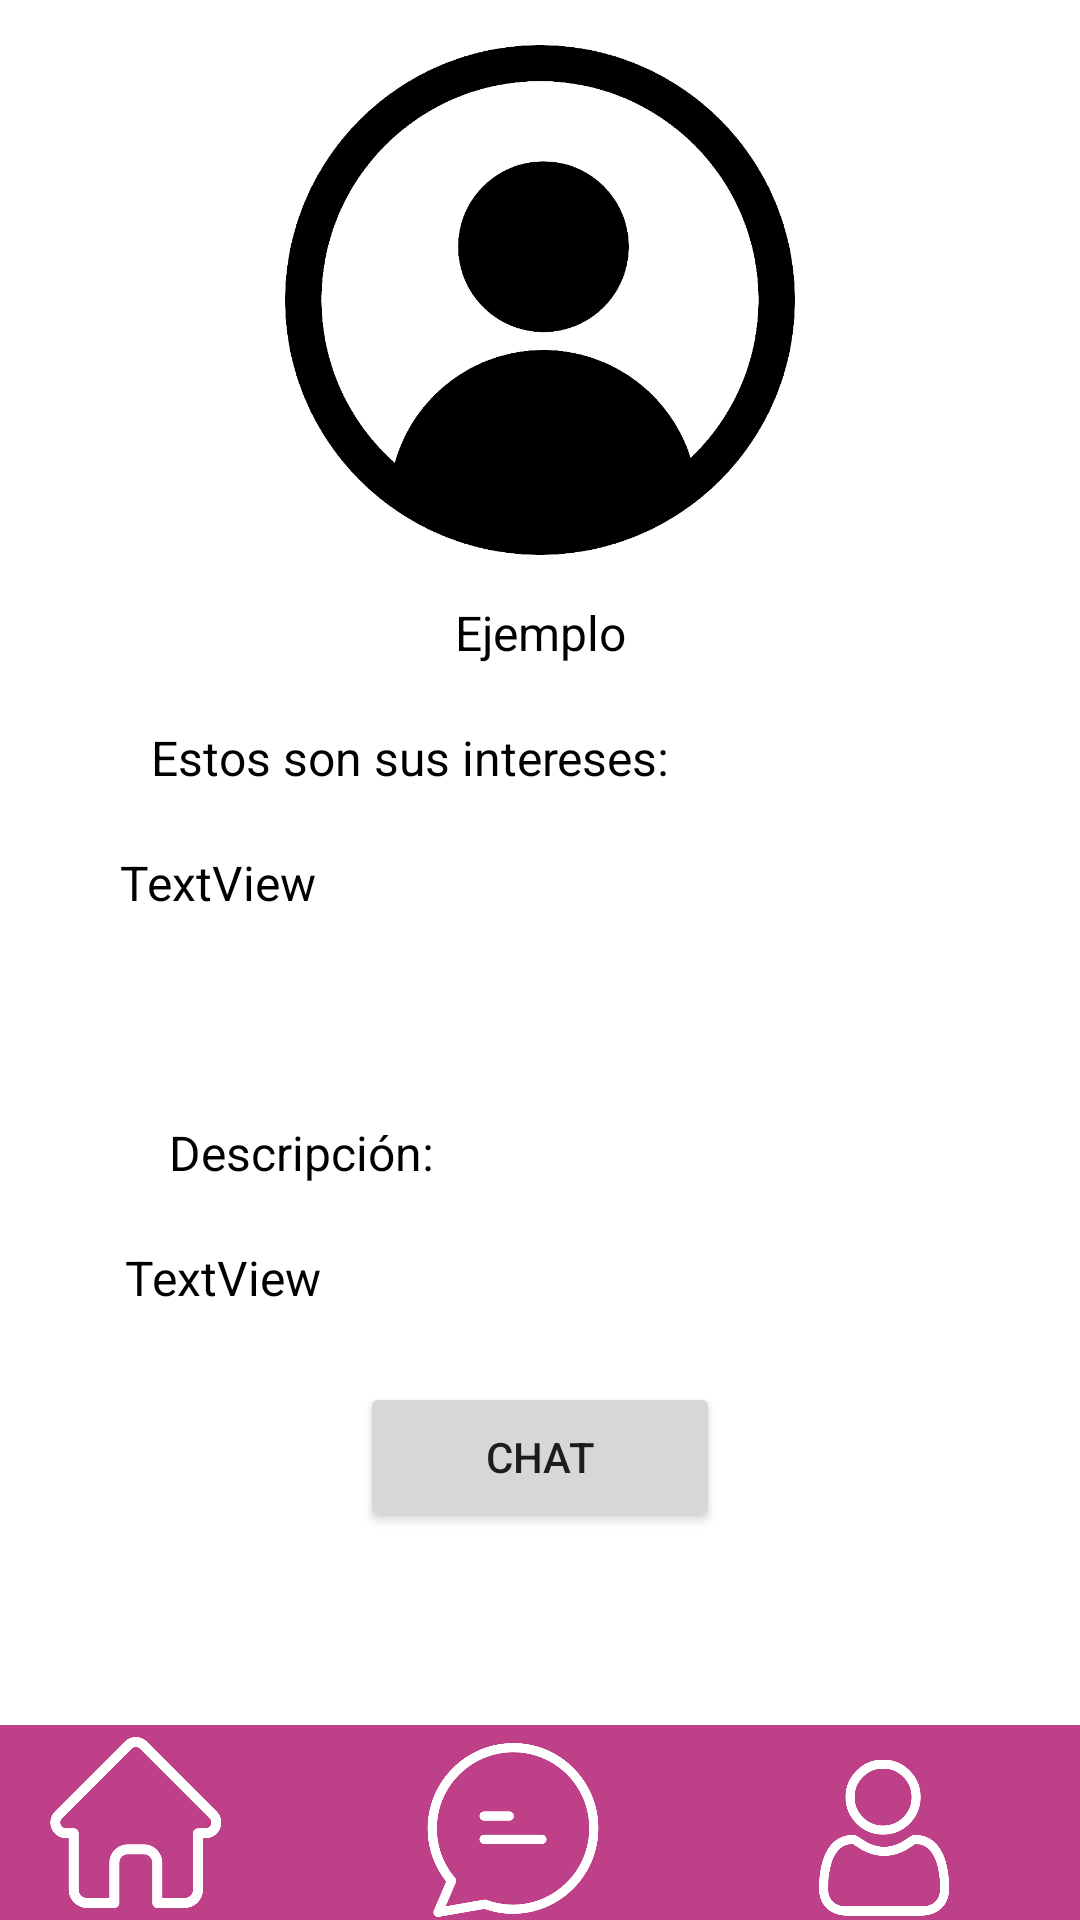

Locate icon controls on the screen. Image size 1080 x 1920, boxes as box(x1, y1, x2, y2).
casa: box(50, 1737, 221, 1908)
chat im: box(427, 1743, 599, 1917)
iconousuario: box(819, 1760, 949, 1916)
